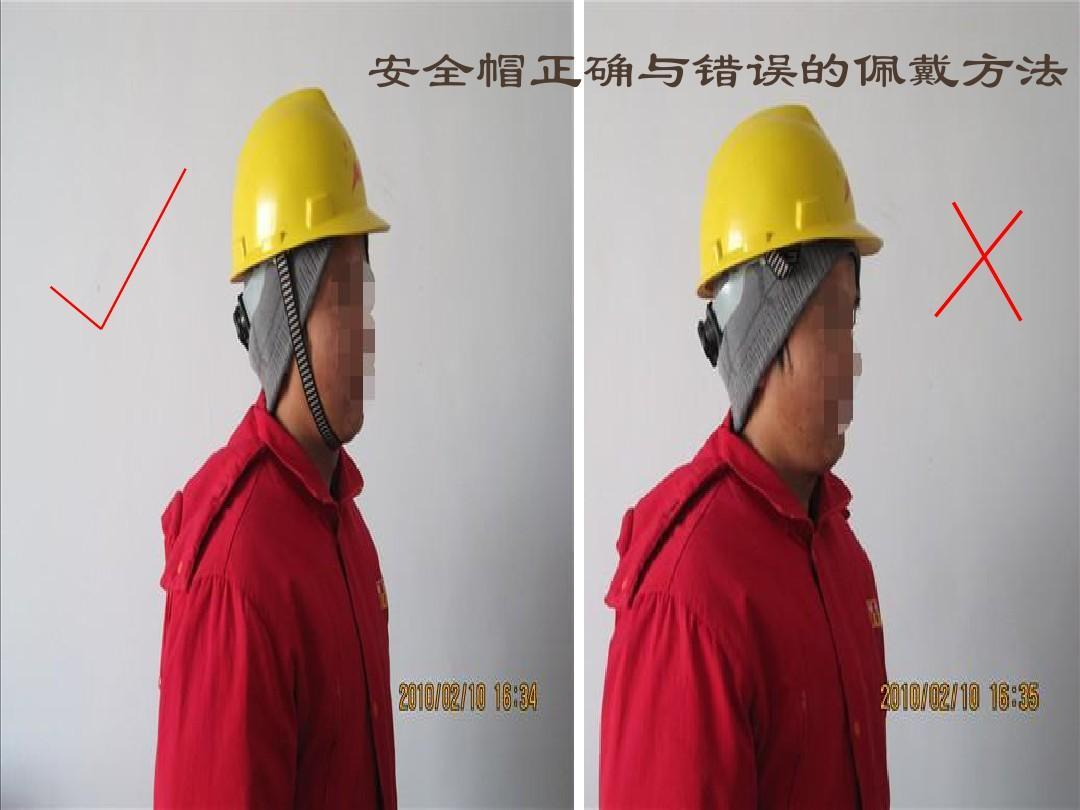helmet: (696, 100, 887, 280), (225, 83, 389, 272)
